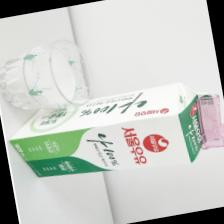milk: (2, 74, 224, 194)
